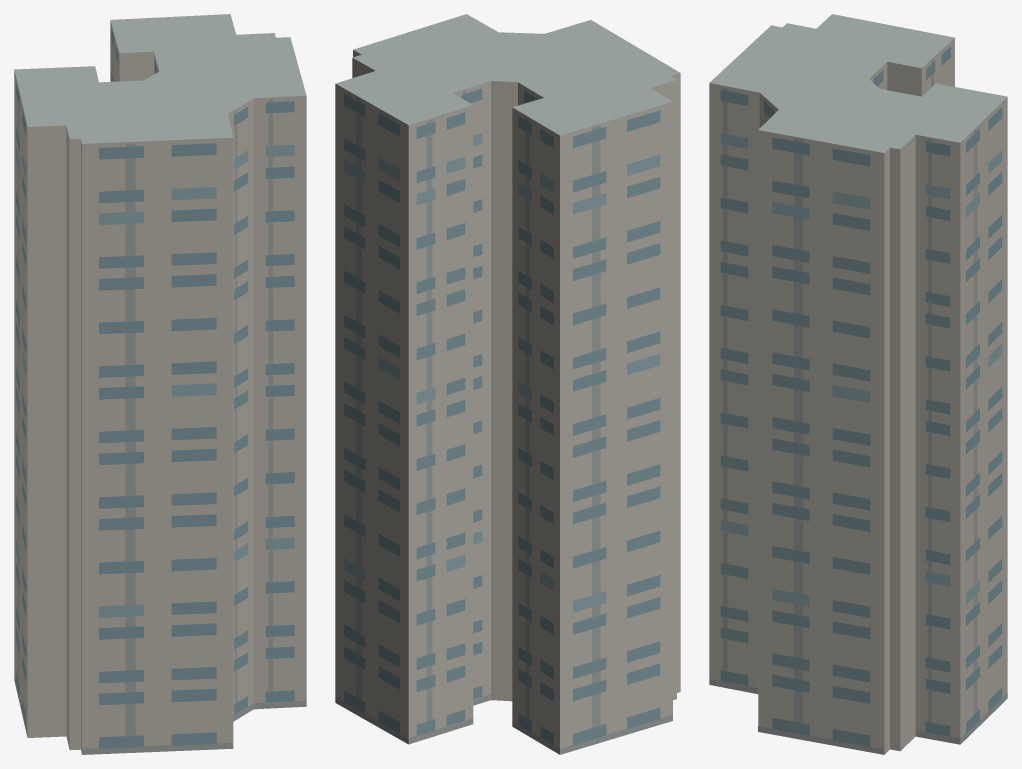
The model's file is residential-610fb23d-c06c-4353-a0b0-24ee1b10b827.glb.
3 views of the same model, side by side, from view 1: azimuth 30°, elevation 25°; view 2: azimuth 150°, elevation 25°; view 3: azimuth 270°, elevation 25° (orthographic). The views are drawn at different scales.
Parts seen in each view (by area): view 1: residential-610fb23d-c06c-4353-a0b0-24ee1b10b827.tmp; view 2: residential-610fb23d-c06c-4353-a0b0-24ee1b10b827.tmp; view 3: residential-610fb23d-c06c-4353-a0b0-24ee1b10b827.tmp.
Boxes of the visible parts, <box> form: residential-610fb23d-c06c-4353-a0b0-24ee1b10b827.tmp: <box>14,14,306,754</box>; residential-610fb23d-c06c-4353-a0b0-24ee1b10b827.tmp: <box>335,14,680,754</box>; residential-610fb23d-c06c-4353-a0b0-24ee1b10b827.tmp: <box>709,14,1007,754</box>.
Size of the model in its own units: 38.65 by 78 by 35.07.
